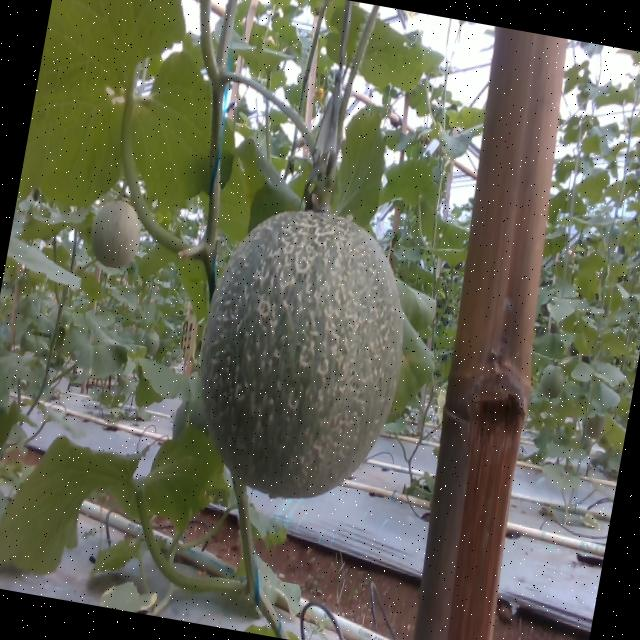melon: (202, 211, 403, 497)
